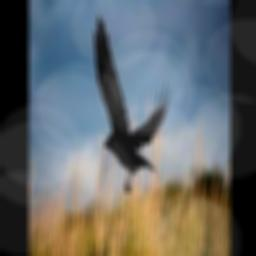Crow: (93, 15, 170, 195)
